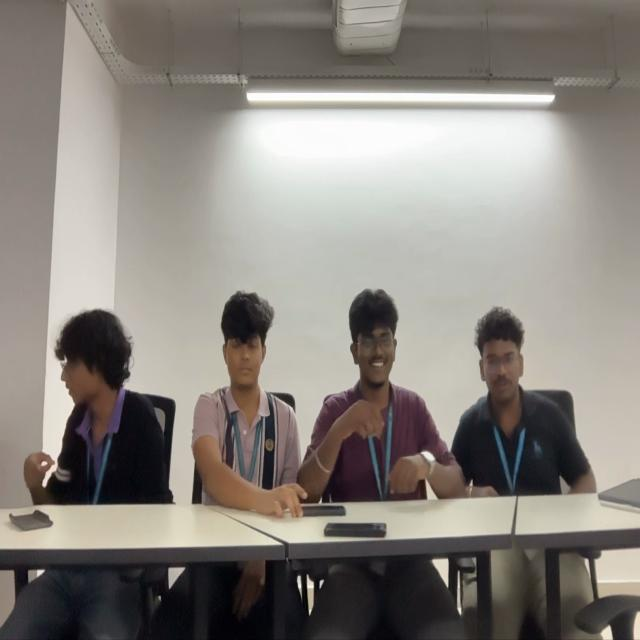Isolated: (20, 309, 169, 504), (314, 286, 442, 497), (453, 307, 597, 493), (194, 290, 297, 508)
